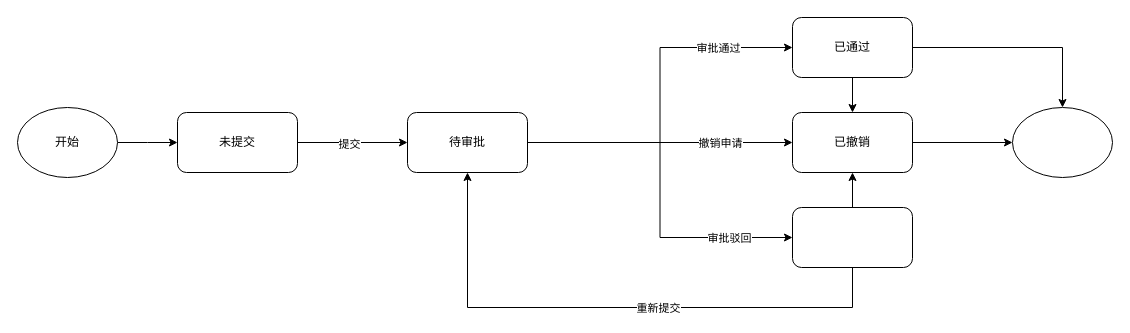
This 1130x333 diagram has some shape labels left out. The centre of each missing label's shape, as x and y in pixels:
"已驳回" belongs at pixel 852 237.
"结束" belongs at pixel 1062 142.
